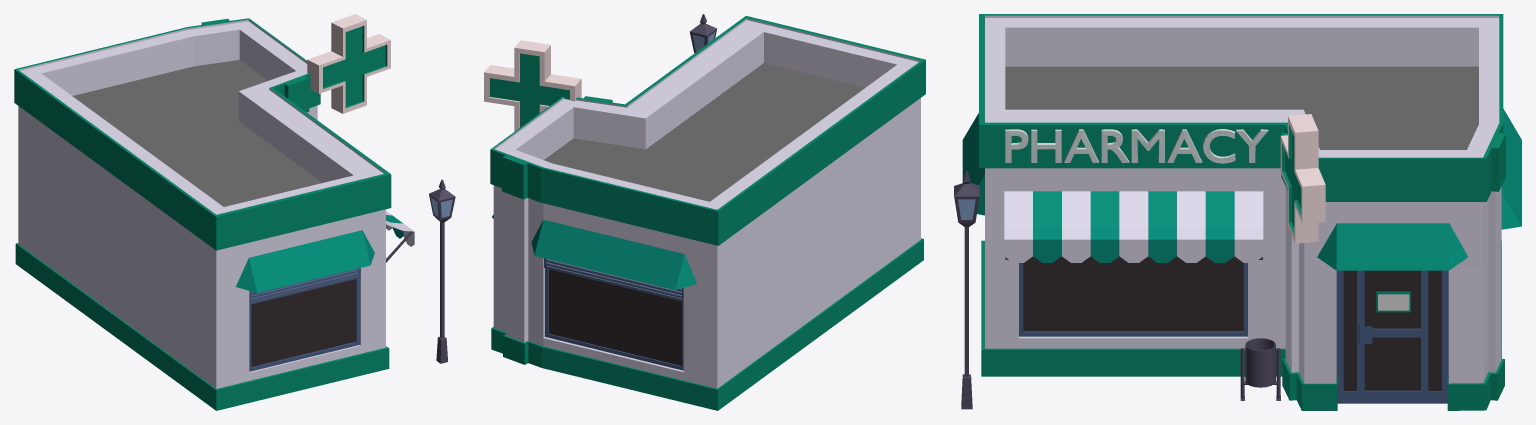
The model's file is Farmacia.fbx.
The picture shows the model from 3 angles, left to right: view 1: azimuth 30°, elevation 25°; view 2: azimuth 150°, elevation 25°; view 3: azimuth 270°, elevation 25°; orthographic projection. The views are drawn at different scales.
Parts seen in each view (by area): view 1: PublicBuilding_Pharmacy_PublicBuilding_Pharmacy_Cube.109_Cub, PublicBuilding_Light_PublicBuilding_Light_Cube.114_Cube.001; view 2: PublicBuilding_Pharmacy_PublicBuilding_Pharmacy_Cube.109_Cub, PublicBuilding_Light_PublicBuilding_Light_Cube.114_Cube.001; view 3: PublicBuilding_Pharmacy_PublicBuilding_Pharmacy_Cube.109_Cub, PublicBuilding_Light_PublicBuilding_Light_Cube.114_Cube.001, PublicBuilding_Bin_PublicBuilding_Bin_Cylinder.047_Cylinder..
Boxes of the visible parts, x1,y1,x2,y2 form: PublicBuilding_Pharmacy_PublicBuilding_Pharmacy_Cube.109_Cub: (14, 14, 414, 410); PublicBuilding_Light_PublicBuilding_Light_Cube.114_Cube.001: (429, 179, 455, 363); PublicBuilding_Pharmacy_PublicBuilding_Pharmacy_Cube.109_Cub: (484, 15, 925, 410); PublicBuilding_Light_PublicBuilding_Light_Cube.114_Cube.001: (690, 14, 717, 53); PublicBuilding_Pharmacy_PublicBuilding_Pharmacy_Cube.109_Cub: (962, 14, 1521, 410); PublicBuilding_Light_PublicBuilding_Light_Cube.114_Cube.001: (954, 171, 979, 409); PublicBuilding_Bin_PublicBuilding_Bin_Cylinder.047_Cylinder.: (1240, 338, 1280, 400).
Size of the model in its own units: 353 by 267 by 447.
1 material, 1 textured.
